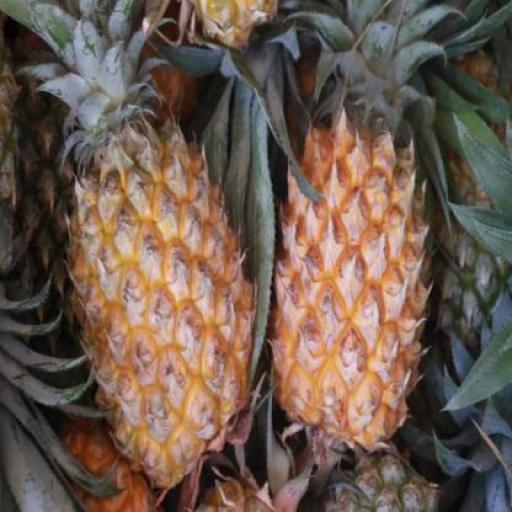Pineapple - v8 v1: (62, 124, 256, 484), (271, 114, 426, 451)
